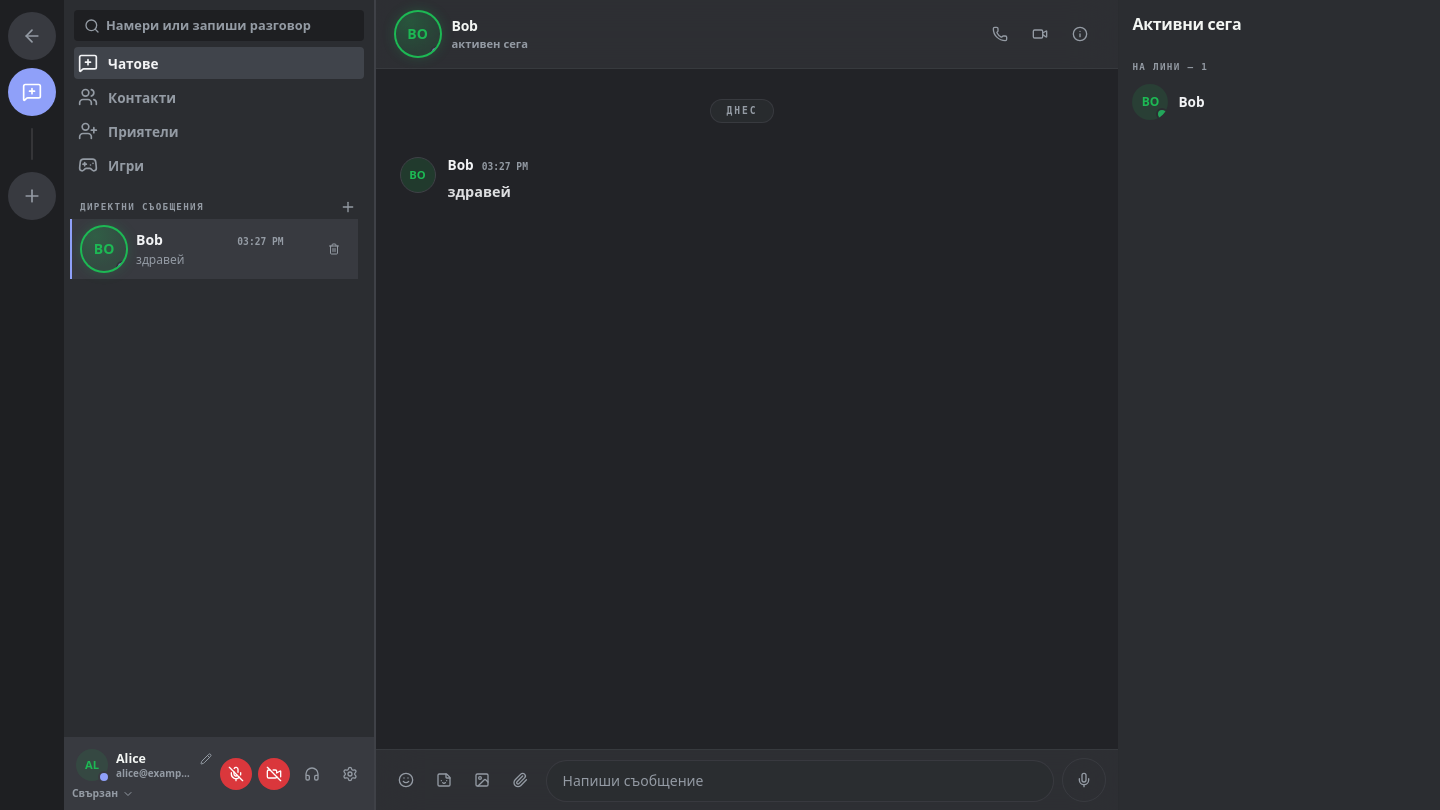
it: picking a chat theme › repaints the chat when a theme is chosen from the settings menu
Later steps or results of the test are not shown.
Click the button named "Настройки на разговора" at (1080, 34), box x1=1062 y1=16 x2=1098 y2=52
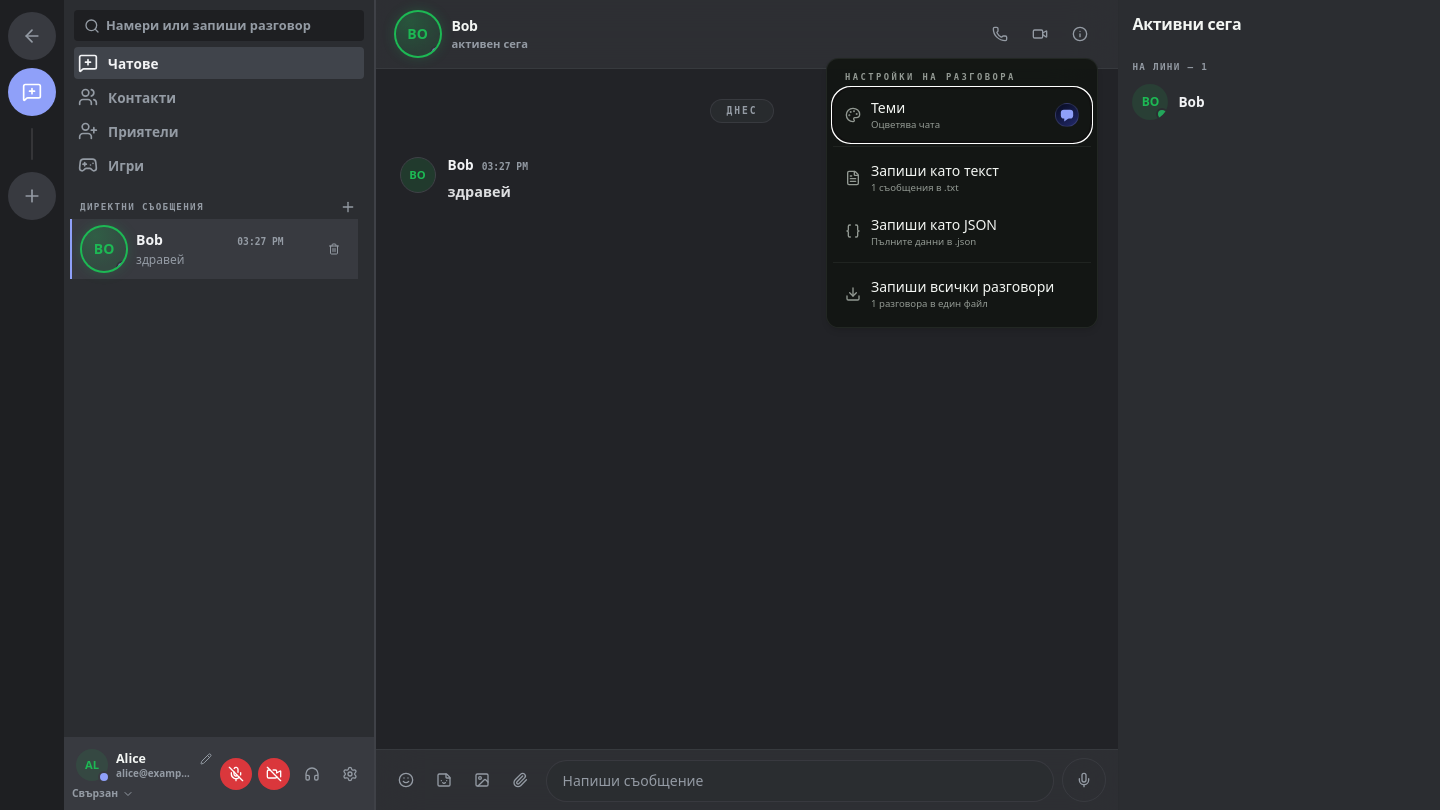
Click the button "Теми Оцветява чата" at (962, 115), box x1=833 y1=88 x2=1091 y2=142
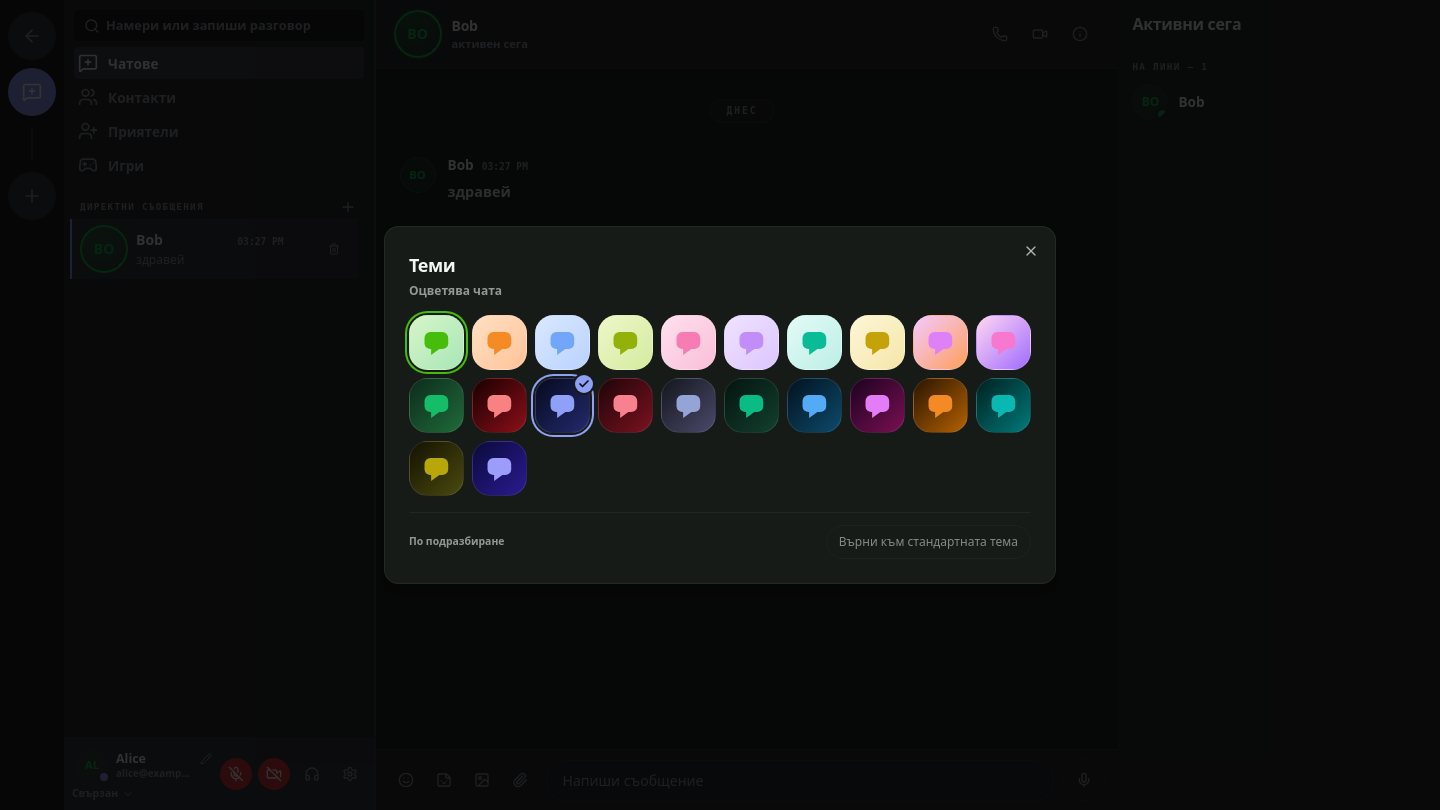
Result: the button titled "lagoon" is shown at x1=976 y1=378 x2=1031 y2=433
